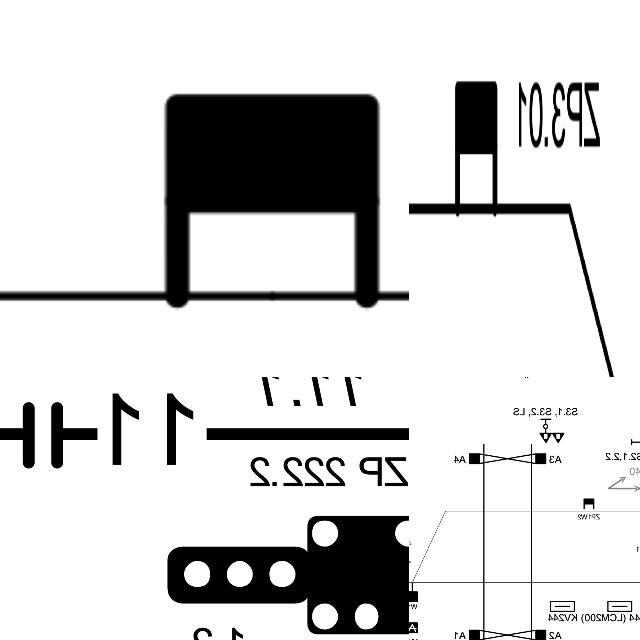radzaehler: (125, 68, 407, 330), (452, 72, 502, 224), (580, 496, 598, 512)
trackjoint: (0, 385, 89, 481)
tracknumber: (83, 377, 234, 483)
weiche: (409, 579, 421, 605)
